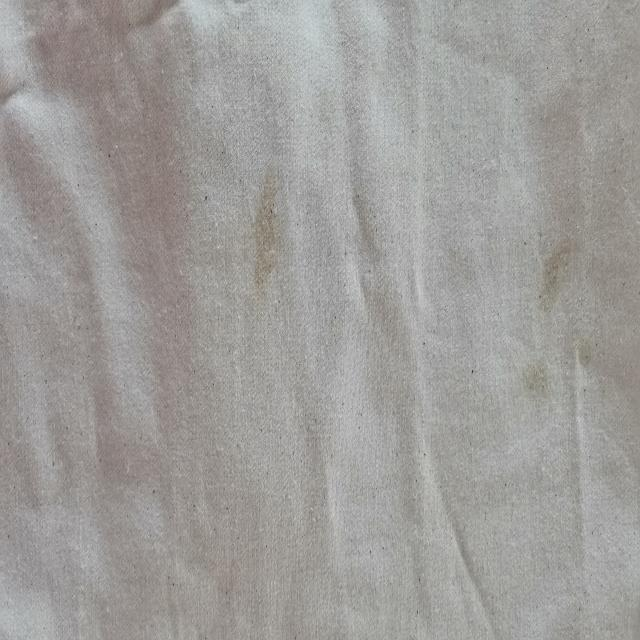taaaches: (244, 146, 289, 314), (537, 232, 574, 308), (518, 348, 544, 426), (577, 337, 599, 383)
